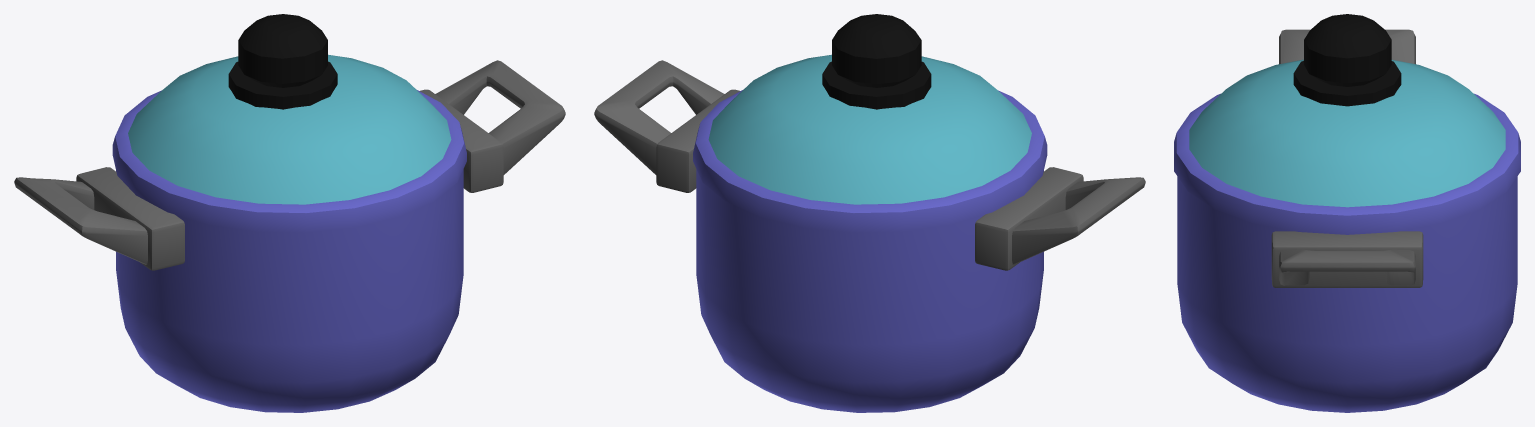
File: SM_pot_04.fbx
3 renders of one model, left to right at view 1: azimuth 30°, elevation 25°; view 2: azimuth 150°, elevation 25°; view 3: azimuth 270°, elevation 25°, orthographic.
Parts seen in each view (by area): view 1: Object028; view 2: Object028; view 3: Object028.
Boxes of the visible parts, bbox=[...] form: Object028: bbox=[14, 14, 565, 412]; Object028: bbox=[594, 14, 1145, 412]; Object028: bbox=[1174, 14, 1520, 412].
Size of the model in its own units: 26.34 by 17.74 by 16.48.
